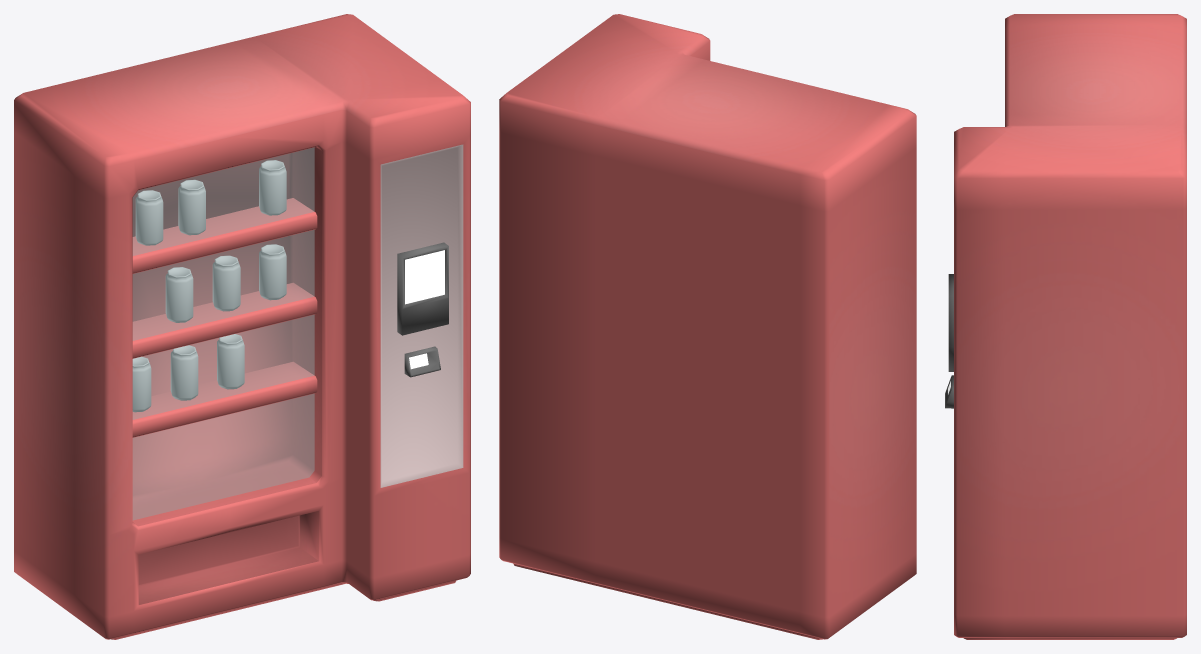
Rendered from gameLand-vendingMachine.glb.
3 renders of one model, left to right at view 1: azimuth 30°, elevation 25°; view 2: azimuth 150°, elevation 25°; view 3: azimuth 270°, elevation 25°, orthographic. The views are drawn at different scales.
Visible parts, largest first — view 1: game_vending_machine_body01, game_vending_machine_glass, game_vending_machine_drinkcan, game_vending_machine_body02, game_vending_machine_emission; view 2: game_vending_machine_body01; view 3: game_vending_machine_body01, game_vending_machine_body02.
Boxes of the visible parts, bbox=[...] form: game_vending_machine_body01: bbox=[14, 14, 470, 639]; game_vending_machine_glass: bbox=[133, 147, 314, 519]; game_vending_machine_drinkcan: bbox=[132, 160, 286, 412]; game_vending_machine_body02: bbox=[397, 242, 448, 377]; game_vending_machine_emission: bbox=[405, 250, 444, 369]; game_vending_machine_body01: bbox=[499, 14, 916, 639]; game_vending_machine_body01: bbox=[954, 14, 1186, 639]; game_vending_machine_body02: bbox=[945, 274, 953, 408].
Size of the model in its own units: 48.68 by 66.36 by 30.87.
Materials: 4 (1 with a texture image).
